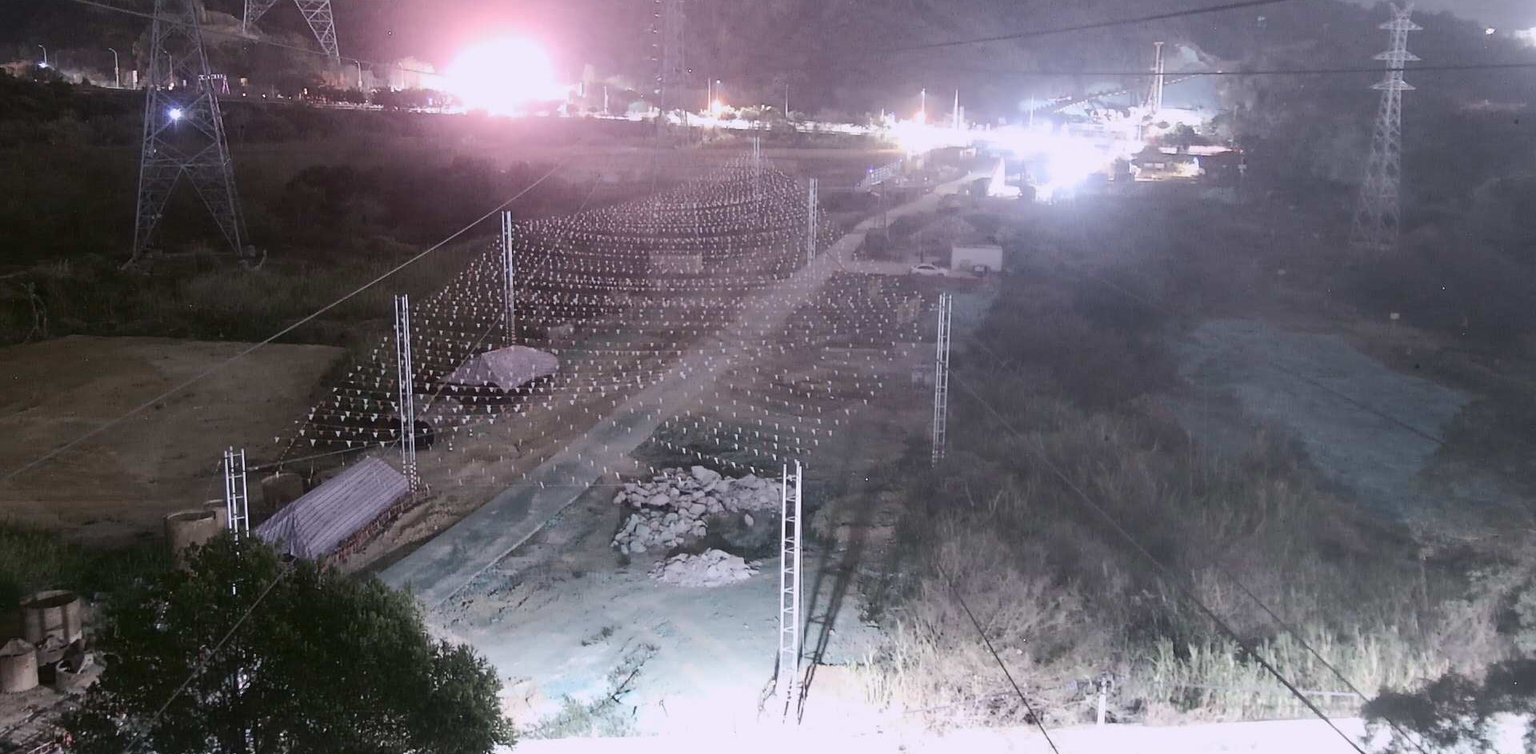过爆灯光: (628, 668, 910, 753), (423, 34, 568, 121), (978, 119, 1113, 198), (1095, 103, 1214, 165), (886, 110, 972, 154), (688, 114, 754, 130), (830, 123, 866, 135), (667, 110, 682, 126), (710, 99, 722, 113), (169, 109, 180, 119)
